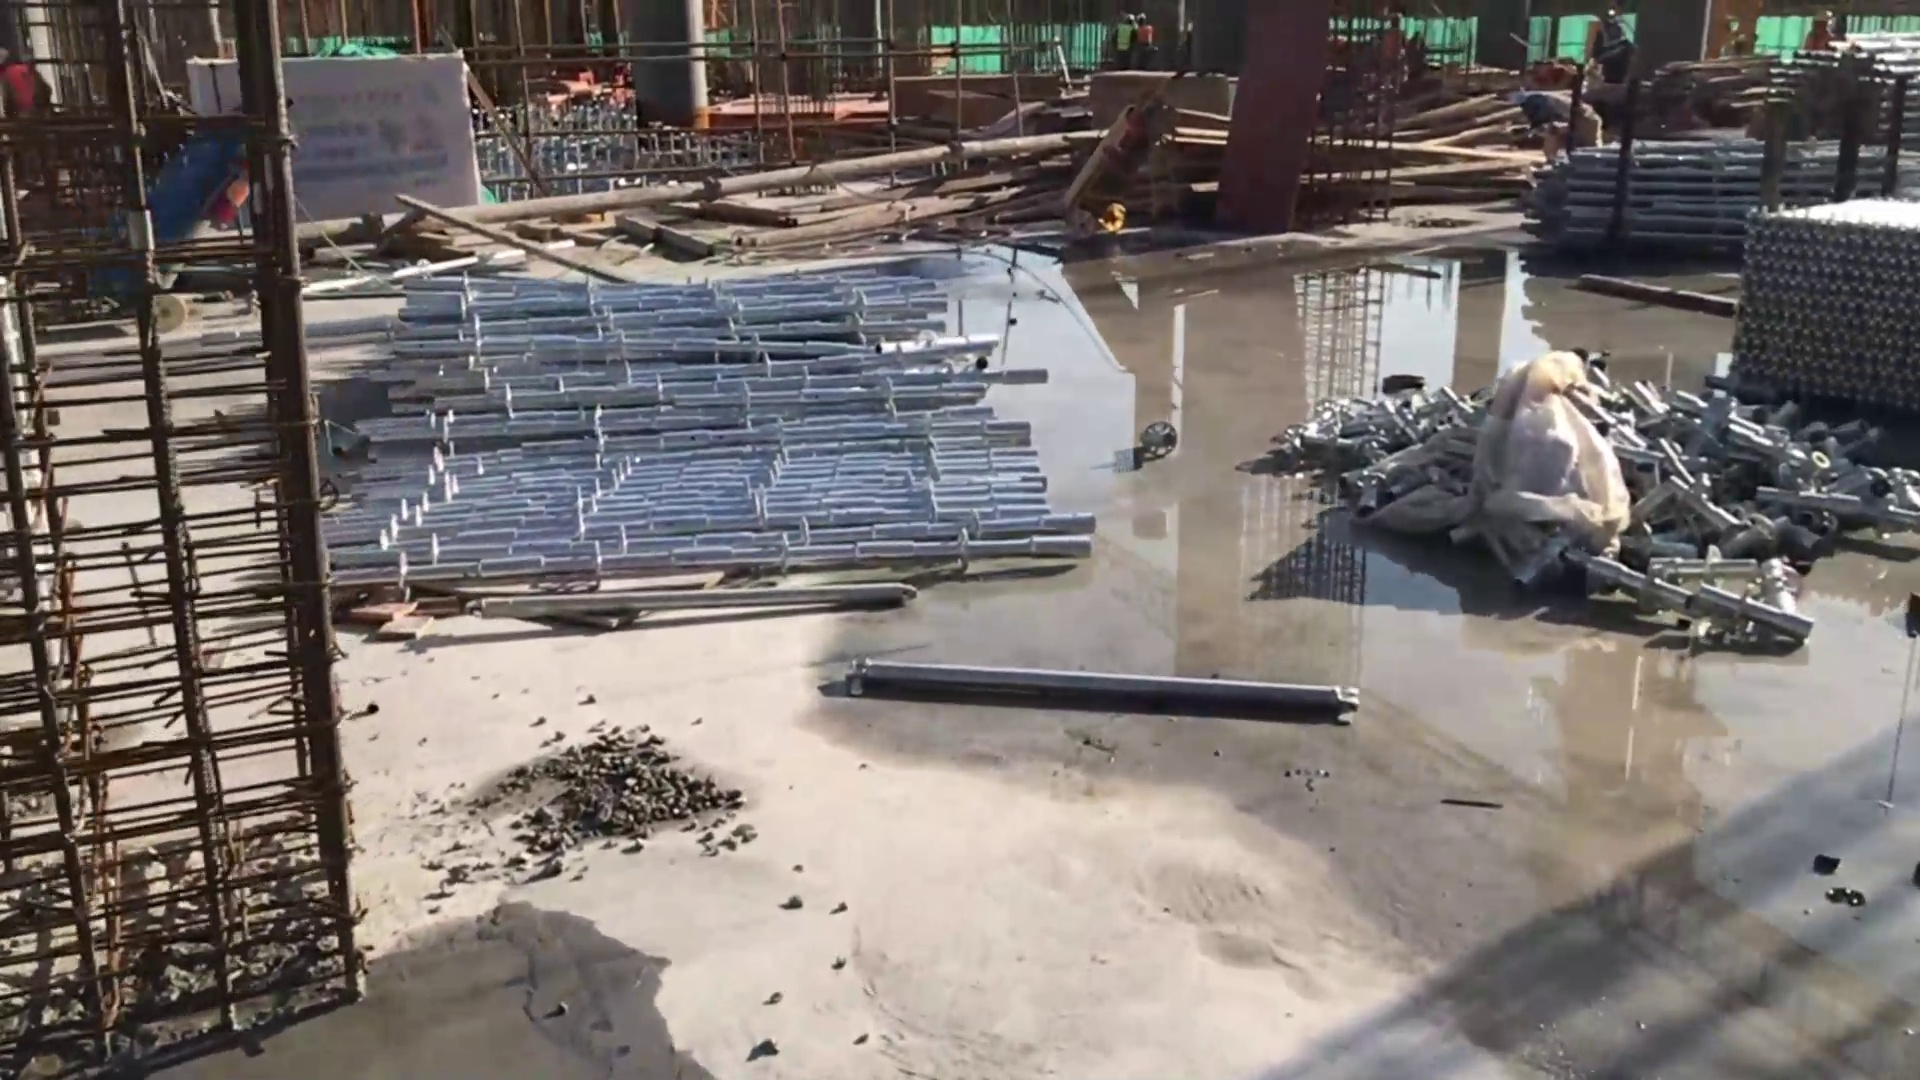scaffold: (338, 280, 1116, 574), (1733, 204, 1920, 413), (1553, 146, 1782, 239), (1764, 46, 1920, 141)
wood: (1389, 88, 1543, 196)
